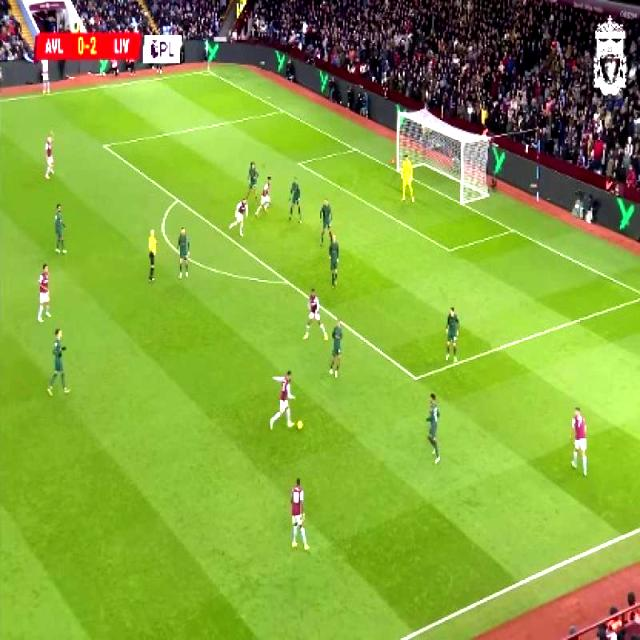bigarea_bottom_inner: (406, 364, 424, 390)
bigarea_top_inner: (97, 136, 111, 154)
bigarea_top_outter: (275, 103, 288, 117)
bottom_arc_area_intersection: (280, 272, 295, 291)
corner: (198, 64, 214, 78)
smallarea_bottom_inner: (440, 237, 457, 260)
smallarea_bottom_outter: (504, 220, 519, 237)
smallarea_top_inner: (290, 154, 305, 171)
smallarea_top_outter: (348, 140, 362, 157)
top_arc_area_intersection: (169, 191, 183, 206)
